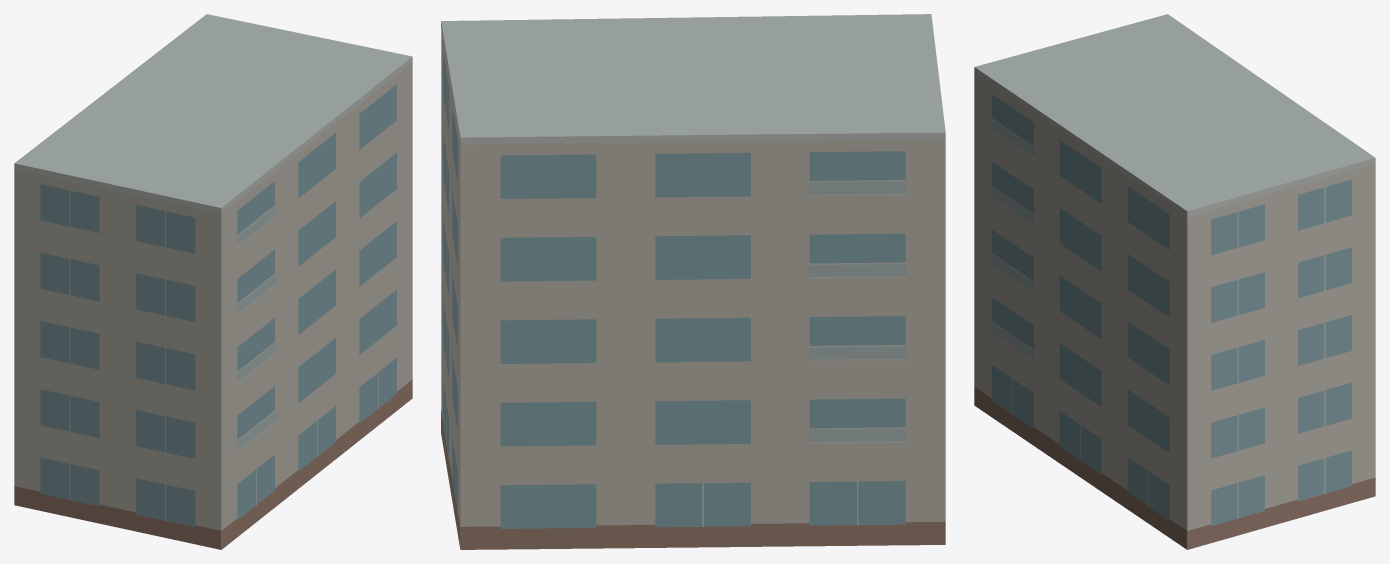
The model's file is survey-upis-32914140.glb.
3 views of the same model, side by side, from view 1: azimuth 30°, elevation 25°; view 2: azimuth 150°, elevation 25°; view 3: azimuth 270°, elevation 25° (orthographic). The views are drawn at different scales.
Parts seen in each view (by area): view 1: survey-upis-32914140.tmp; view 2: survey-upis-32914140.tmp; view 3: survey-upis-32914140.tmp.
Part boxes in pixels (box(x1,y1,x2,y2)): survey-upis-32914140.tmp: box(14, 14, 412, 549); survey-upis-32914140.tmp: box(441, 14, 945, 549); survey-upis-32914140.tmp: box(974, 14, 1375, 549).
Bounding box in the file's own units: 18.51 × 14.8 × 15.9.
